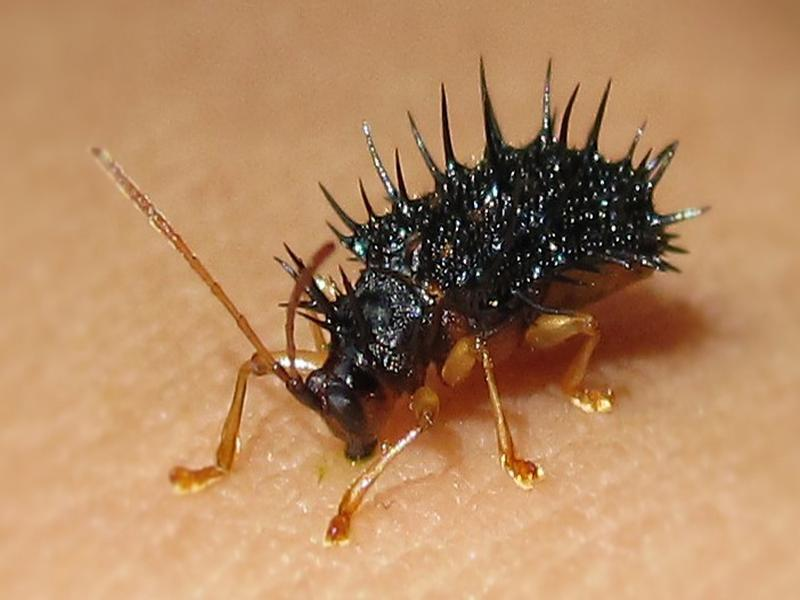Spiny_beetle: (177, 93, 729, 536)
